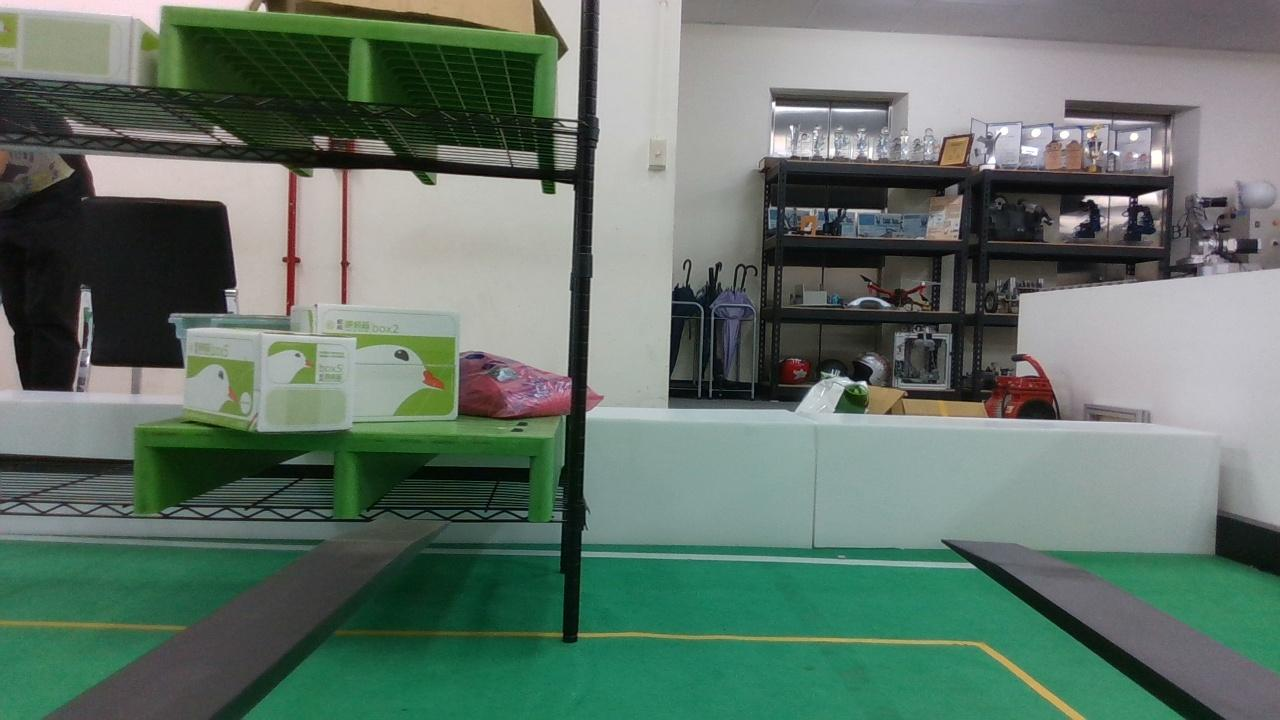Pallet: (153, 8, 561, 118), (131, 423, 560, 521)
